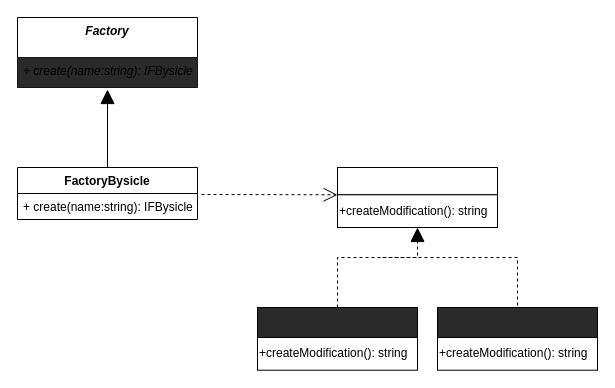
This 615x388 diagram has some shape labels left out. Each missing label, with the centre of its shape:
Bysicle: point 337,322
SportBysicle: point 517,322
«interface» IFBysicle: point 417,180
